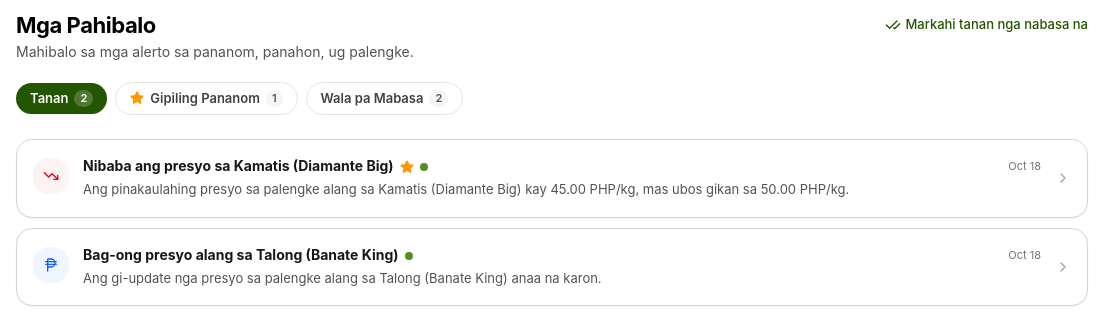
Test: Farmer Notification List Rendering & Fallbacks › renders preferred crop star icon and filters list when Preferred Crops tab is selected
# Click "Preferred Crops" filter button
Click the button "Gipiling Pananom 1" at [206, 98], box [115,82,298,115]
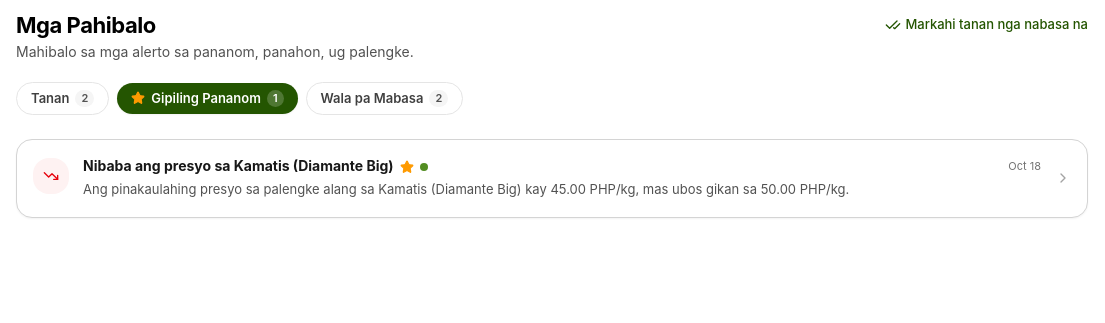
Result: the text "Talong" is gone
